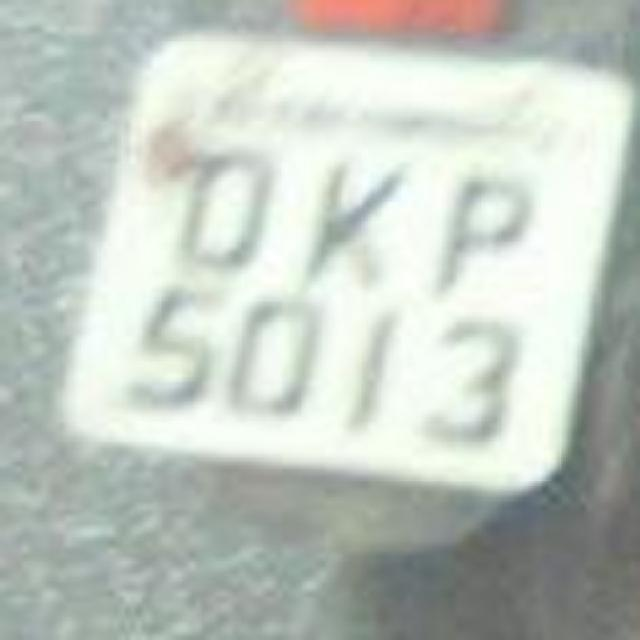0: (216, 275, 349, 440)
1: (332, 296, 412, 432)
3: (396, 280, 544, 445)
5: (105, 272, 240, 436)
O: (140, 132, 272, 292)
P: (408, 136, 528, 292)
